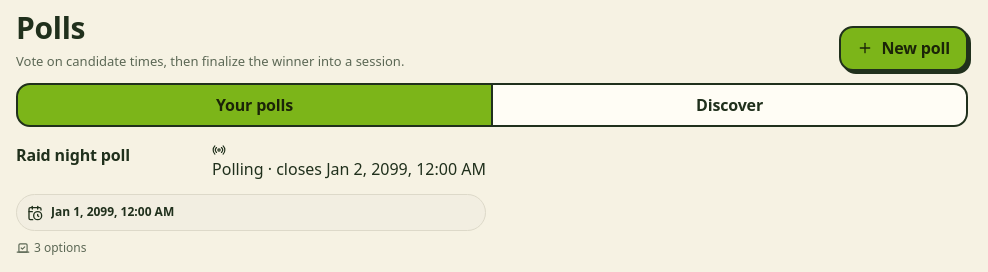
Test: PollListPage › switches the query family when the discoverable tab is activated
The image size is (988, 272).
Expected: the heading "Raid night poll" is shown, x1=16 y1=143 x2=130 y2=167
What coordinates should you click on to do the following:
click the tab "Discover"
I would click on:
 (730, 105)
Its box is x1=493 y1=83 x2=968 y2=127.
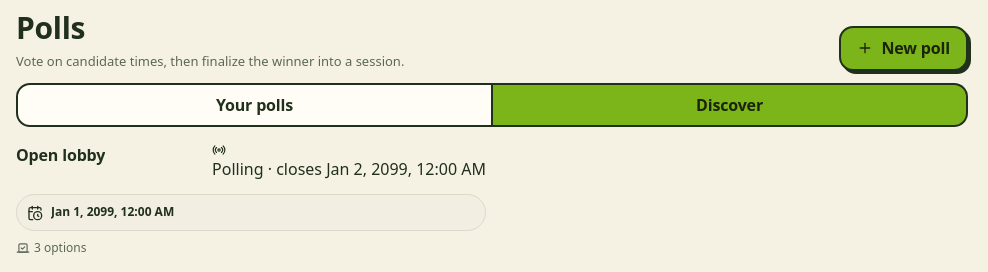
Result: the heading "Open lobby" is shown at x1=16 y1=143 x2=105 y2=167
Result: the link "Raid night poll" is gone
